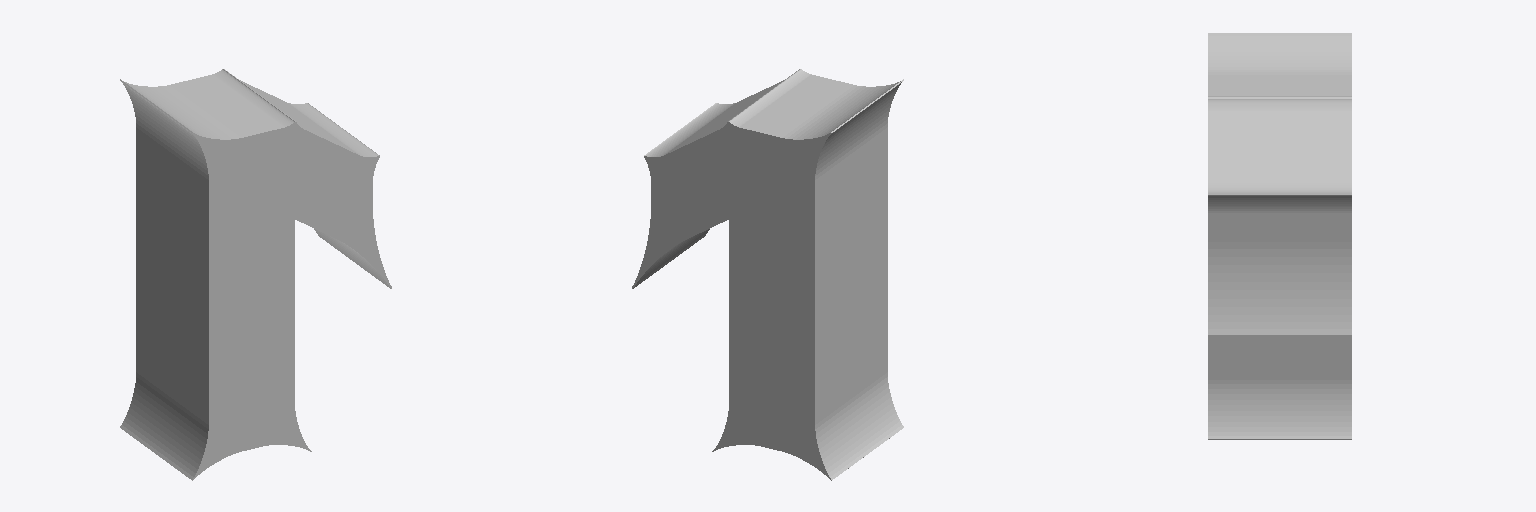
The picture shows the model from 3 angles: view 1: azimuth 30°, elevation 25°; view 2: azimuth 150°, elevation 25°; view 3: azimuth 270°, elevation 25°; orthographic projection.
Parts seen in each view (by area): view 1: テキスト; view 2: テキスト; view 3: テキスト.
Part boxes in pixels (x1,y1,x2,y2): テキスト: (120,69,391,480); テキスト: (632,69,903,480); テキスト: (1208,33,1351,439).
Size of the model in its own units: 0.3194 by 0.5314 by 0.2.